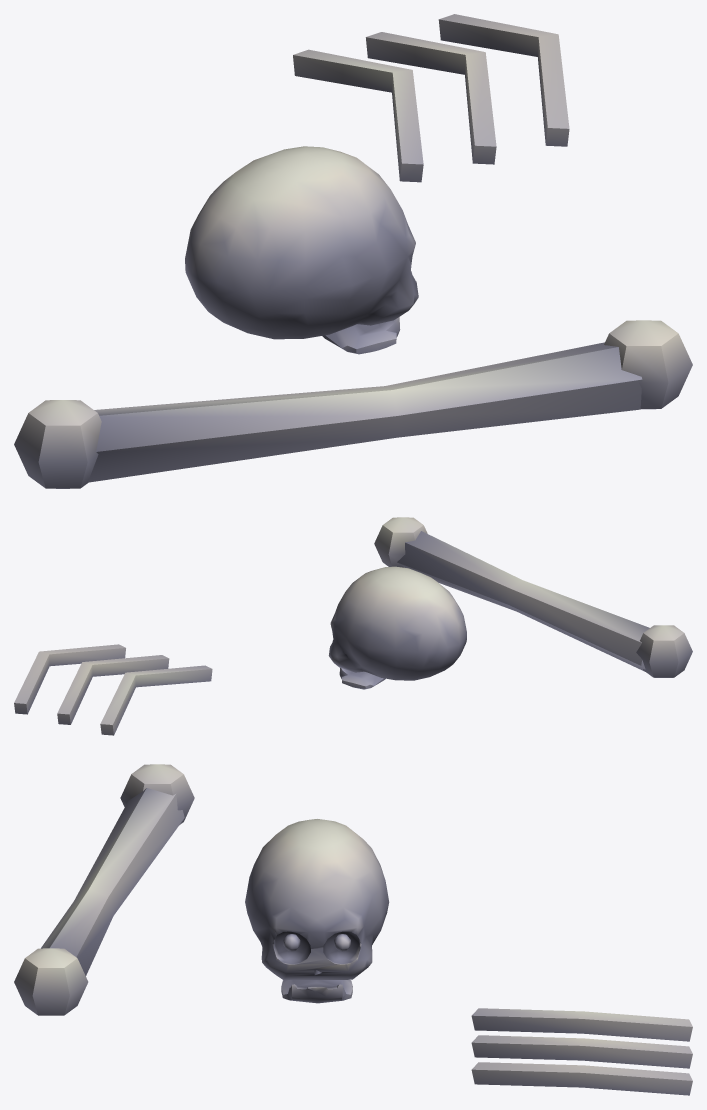
File: bones-BEoQRjMa.glb
3 views of the same model, one above another, from view 1: azimuth 30°, elevation 25°; view 2: azimuth 150°, elevation 25°; view 3: azimuth 270°, elevation 25° (orthographic). The views are drawn at different scales.
Parts seen in each view (by area): view 1: bones; view 2: bones; view 3: bones.
Part boxes in pixels (x1,y1,x2,y2): bones: (14, 14, 692, 488); bones: (14, 517, 692, 735); bones: (14, 764, 692, 1095).
Bounding box in the file's own units: 1.34 × 0.3141 × 1.28.
